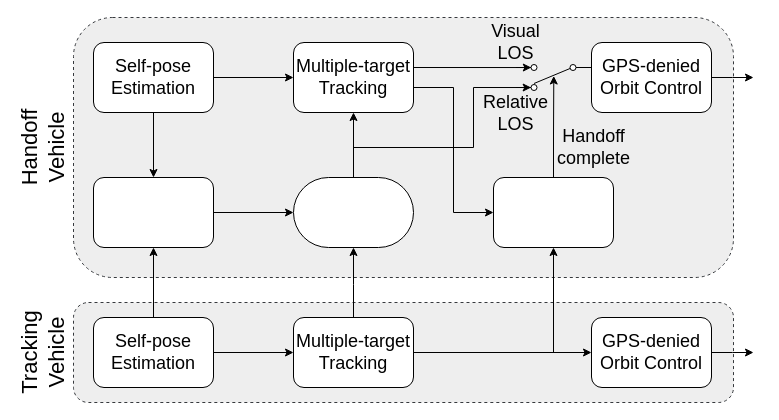
This 779x420 diagram has some shape labels left out. The box of each missing label's shape, as (x1, y1, x2, y2) in pixels:
Compute Relative Target LOS: (292, 176, 414, 248)
Handoff Logic: (492, 176, 614, 248)
Relative-pose Estimation: (92, 176, 214, 248)
